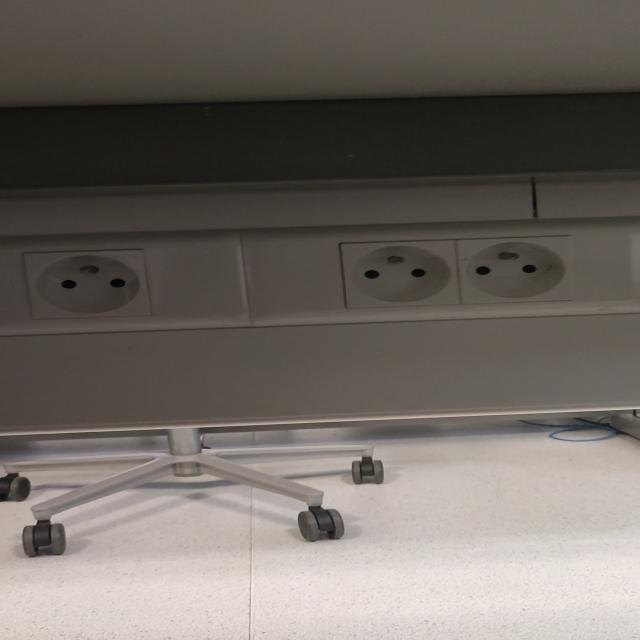house plug: (19, 252, 159, 322), (341, 241, 464, 309), (453, 237, 572, 307)
